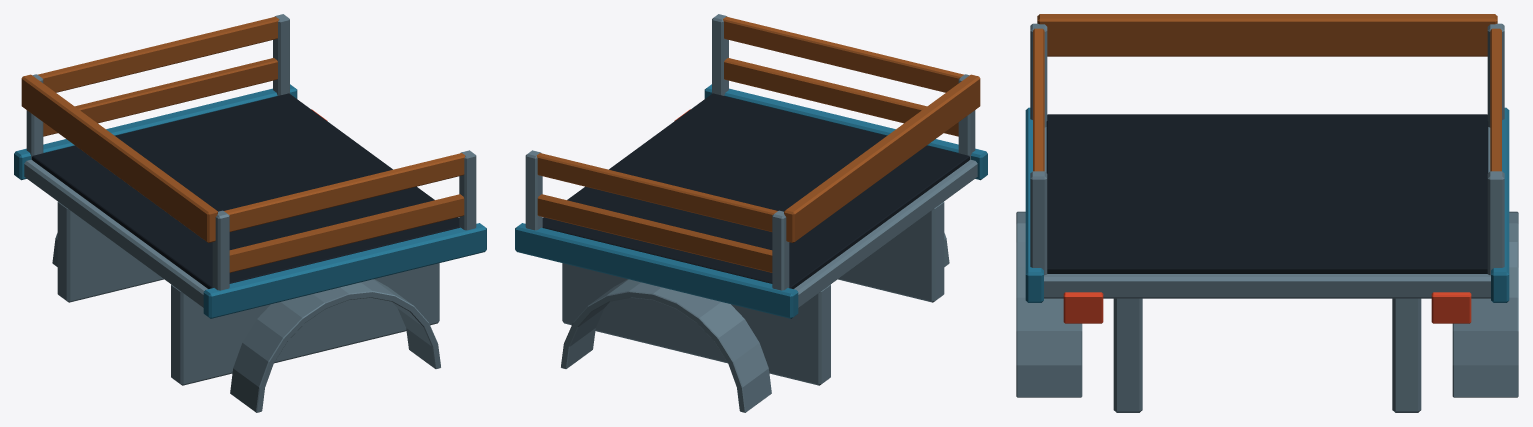
Rendered from EC_DropsideFlatbed.fbx.
3 renders of one model, left to right at view 1: azimuth 30°, elevation 25°; view 2: azimuth 150°, elevation 25°; view 3: azimuth 270°, elevation 25°, orthographic. The views are drawn at different scales.
Visible parts, largest first — view 1: EC_DropsideFlatbed; view 2: EC_DropsideFlatbed; view 3: EC_DropsideFlatbed.
Part boxes in pixels (bbox=[...]): EC_DropsideFlatbed: bbox=[14, 14, 486, 412]; EC_DropsideFlatbed: bbox=[515, 14, 987, 412]; EC_DropsideFlatbed: bbox=[1016, 14, 1518, 412].
Size of the model in its own units: 1.53 by 1.05 by 1.91.
